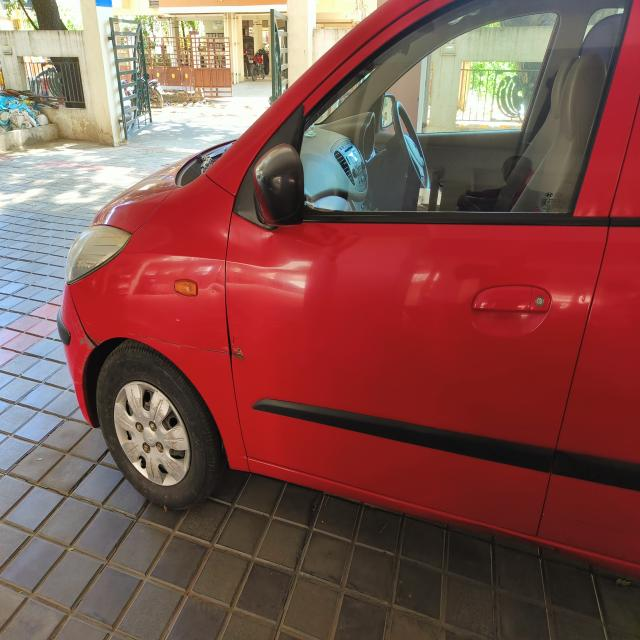scratch: (123, 324, 254, 362), (67, 306, 105, 352)
